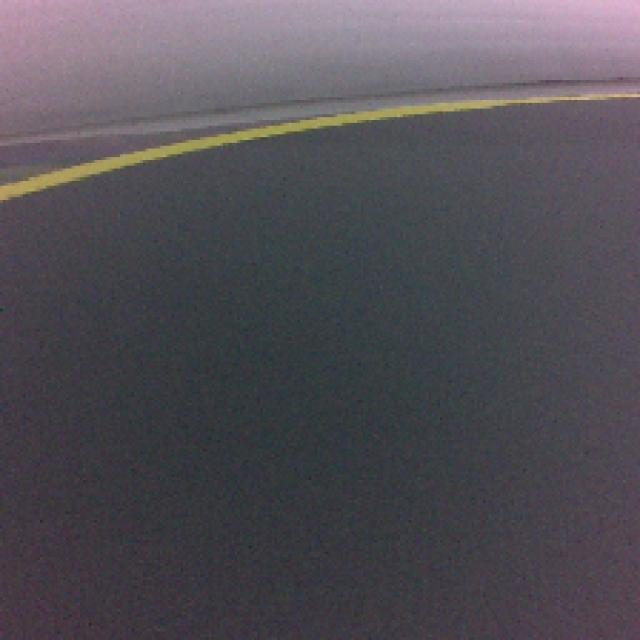Road: (2, 414, 639, 638)
